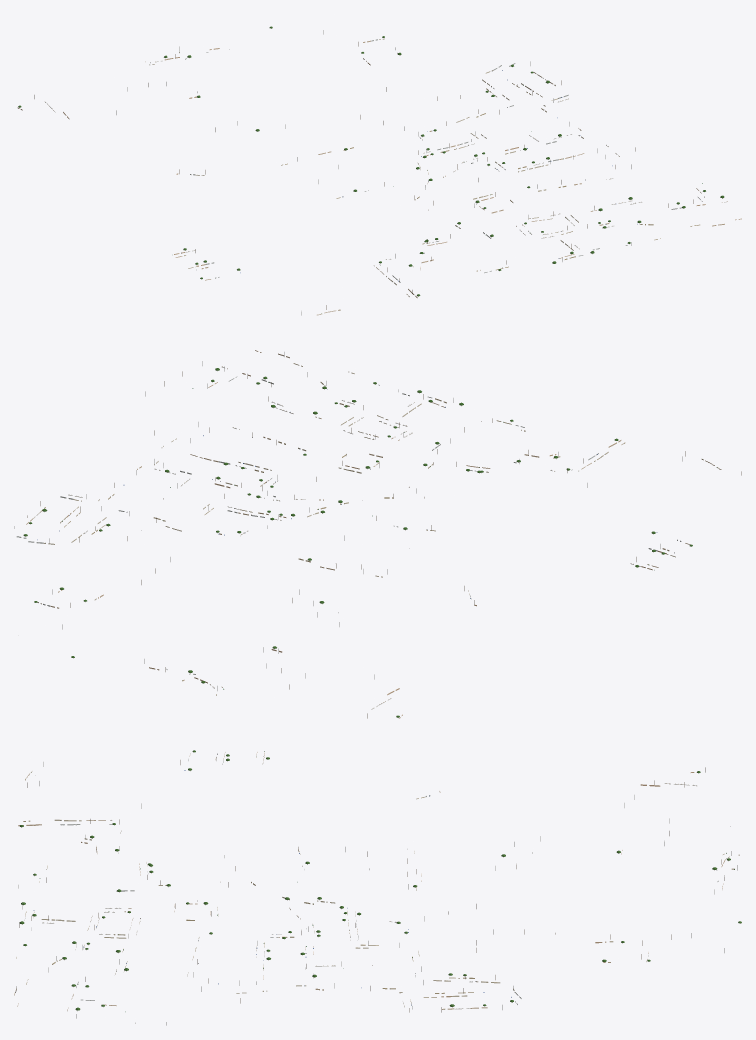
The model's file is nd_stm_m7_m5.glb.
3 renders of one model, top to bottom at view 1: azimuth 30°, elevation 25°; view 2: azimuth 150°, elevation 25°; view 3: azimuth 270°, elevation 25°, orthographic. The views are drawn at different scales.
Visible parts, largest first — view 1: nd_stm_m7_m5_lod0; view 2: nd_stm_m7_m5_lod0; view 3: nd_stm_m7_m5_lod0.
Boxes of the visible parts, box(x1,y1,x2,y2) form: nd_stm_m7_m5_lod0: box(17, 26, 741, 315); nd_stm_m7_m5_lod0: box(14, 350, 741, 718); nd_stm_m7_m5_lod0: box(14, 750, 741, 1025).
Size of what is drawn, in the model's own units: 901 by 24.28 by 999.
